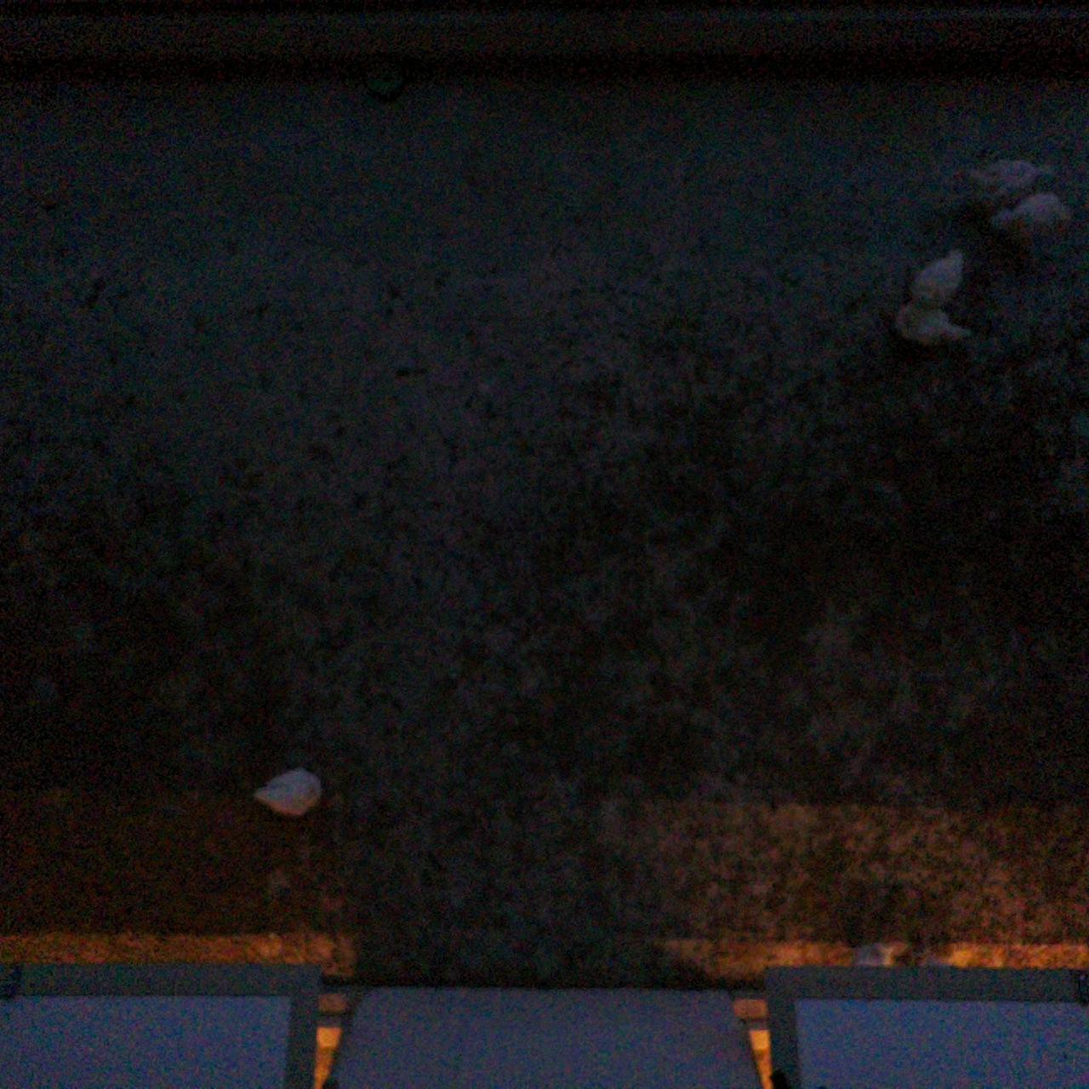chicken: (951, 152, 1044, 213), (886, 295, 975, 357), (987, 185, 1076, 245), (250, 760, 325, 825), (910, 244, 970, 314)
